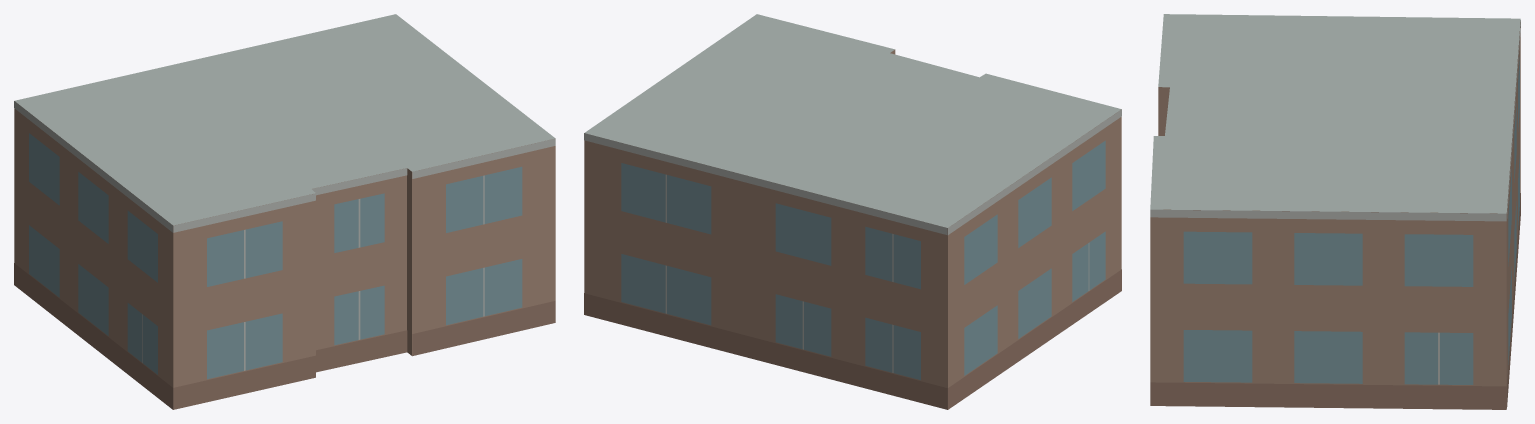
File: survey-upis-32868287.glb
3 views of the same model, side by side, from view 1: azimuth 30°, elevation 25°; view 2: azimuth 150°, elevation 25°; view 3: azimuth 270°, elevation 25° (orthographic). The views are drawn at different scales.
Visible parts, largest first — view 1: survey-upis-32868287.tmp; view 2: survey-upis-32868287.tmp; view 3: survey-upis-32868287.tmp.
Part boxes in pixels (bbox=[...]): survey-upis-32868287.tmp: bbox=[14, 14, 555, 409]; survey-upis-32868287.tmp: bbox=[584, 14, 1121, 409]; survey-upis-32868287.tmp: bbox=[1150, 14, 1520, 409].
Bounding box in the file's own units: 13.31 × 6.1 × 10.44.
